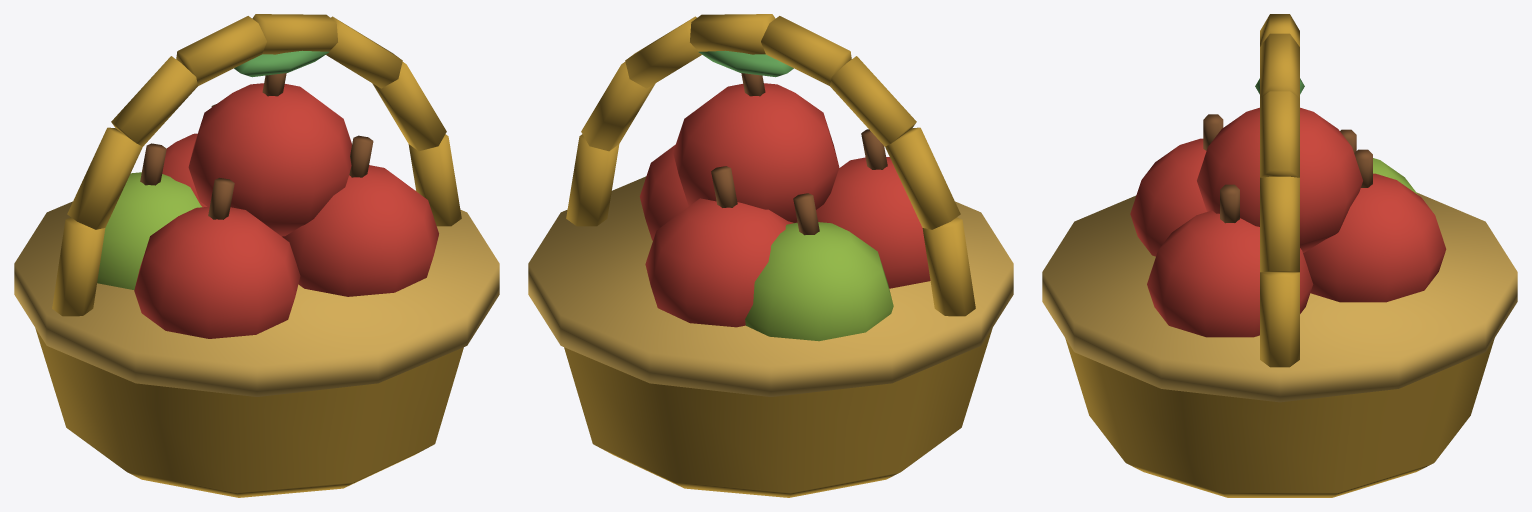
File: item_apple.glb
3 views of the same model, side by side, from view 1: azimuth 30°, elevation 25°; view 2: azimuth 150°, elevation 25°; view 3: azimuth 270°, elevation 25° (orthographic). The views are drawn at different scales.
Visible parts, largest first — view 1: item_apple; view 2: item_apple; view 3: item_apple.
Boxes of the visible parts, x1=… form: item_apple: x1=14, y1=14, x2=499, y2=497; item_apple: x1=528, y1=14, x2=1013, y2=497; item_apple: x1=1042, y1=14, x2=1517, y2=497.
Size of the model in its own units: 0.2856 by 0.2641 by 0.2856.
